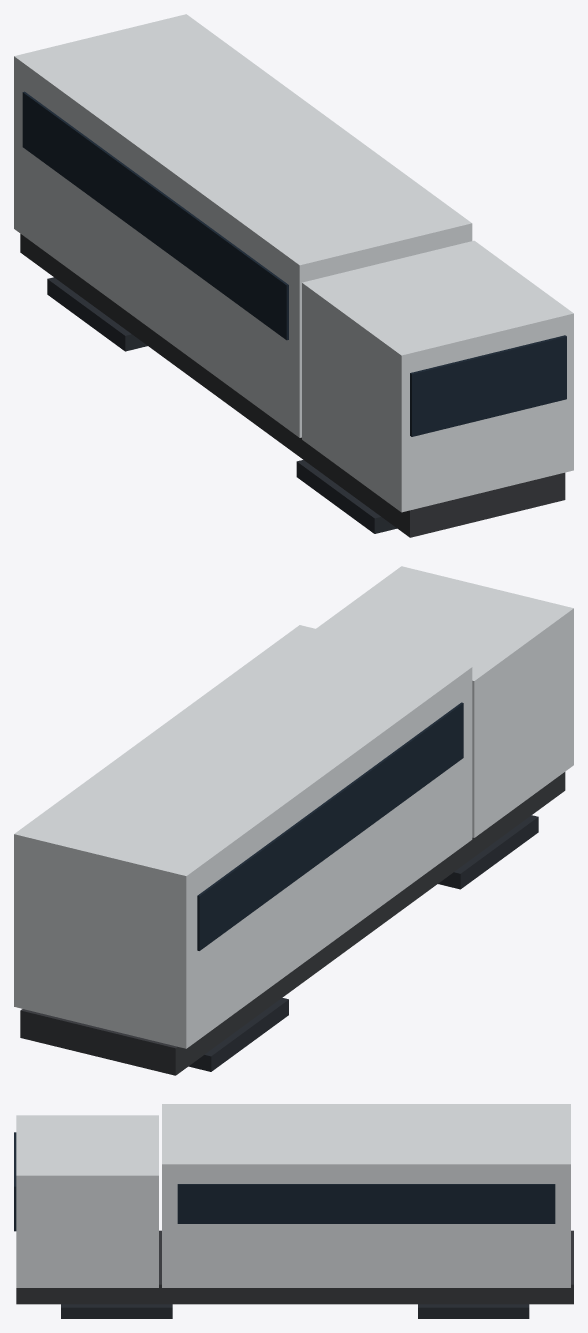
Rendered from veh_ground_bus_a10.glb.
The picture shows the model from 3 angles, top to bottom: view 1: azimuth 30°, elevation 25°; view 2: azimuth 150°, elevation 25°; view 3: azimuth 270°, elevation 25°; orthographic projection. The views are drawn at different scales.
Visible parts, largest first — view 1: body; view 2: body; view 3: body.
Boxes of the visible parts, x1,y1,x2,y2 form: body: (14,14,573,537); body: (14,566,573,1075); body: (14,1104,573,1318).
Size of what is drawn, in the model's own units: 2.36 by 2.84 by 9.04.
